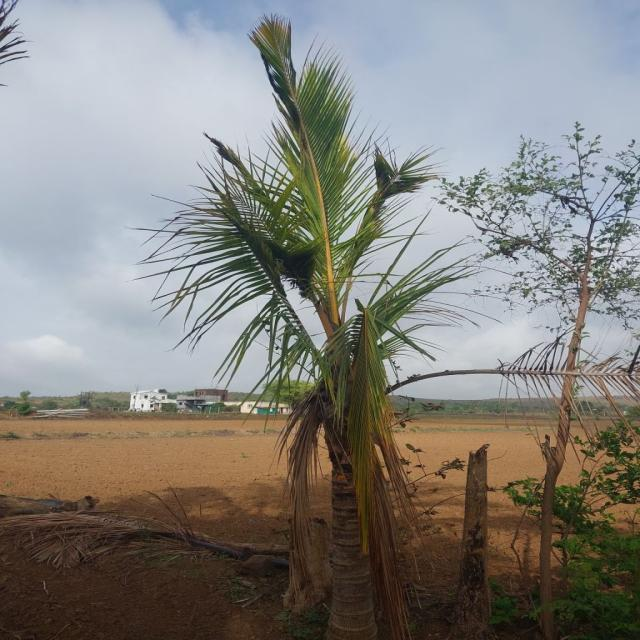bud root dropping: (145, 16, 470, 640)
